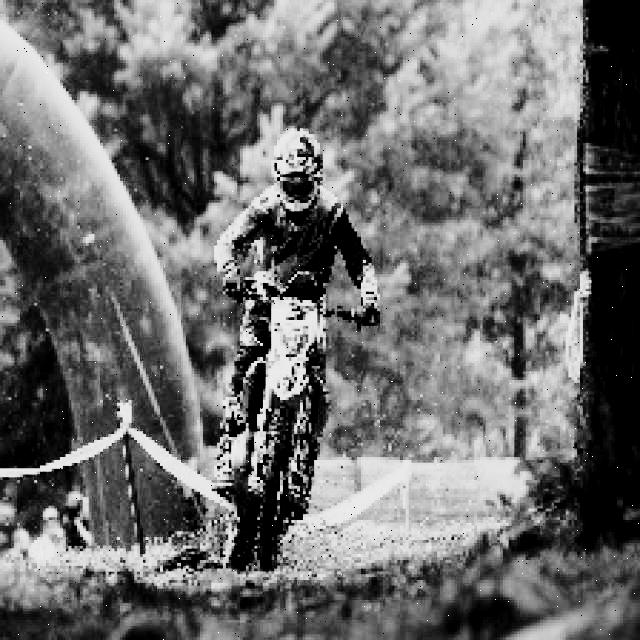Bike: (211, 236, 347, 554)
